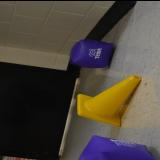cone: (76, 74, 142, 126)
cube: (78, 134, 158, 160), (69, 38, 114, 68)
